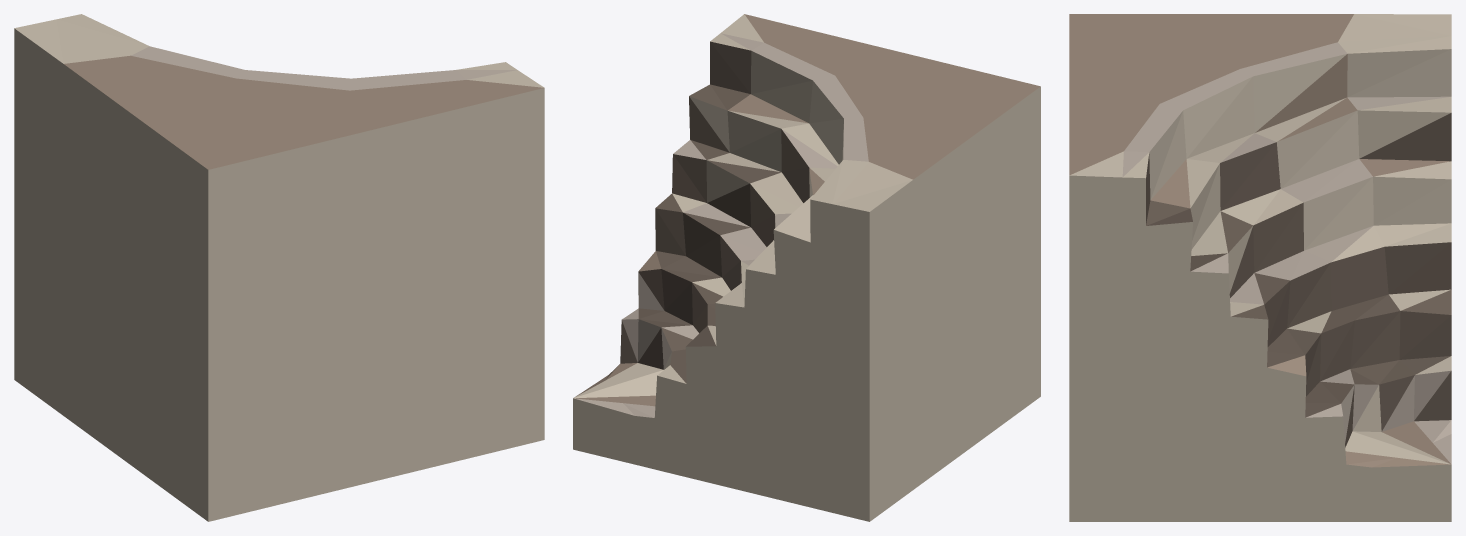
File: RG-Dungeon_Corner-Stairs-01.fbx
The picture shows the model from 3 angles, left to right: view 1: azimuth 30°, elevation 25°; view 2: azimuth 150°, elevation 25°; view 3: azimuth 270°, elevation 25°; orthographic projection. The views are drawn at different scales.
Parts seen in each view (by area): view 1: RG-Dungeon_Corner-Stairs-01; view 2: RG-Dungeon_Corner-Stairs-01; view 3: RG-Dungeon_Corner-Stairs-01.
Part boxes in pixels (<box>): RG-Dungeon_Corner-Stairs-01: <box>14,14,544,521</box>; RG-Dungeon_Corner-Stairs-01: <box>573,14,1040,521</box>; RG-Dungeon_Corner-Stairs-01: <box>1069,14,1451,521</box>.
Bounding box in the file's own units: 10 × 10 × 10.
